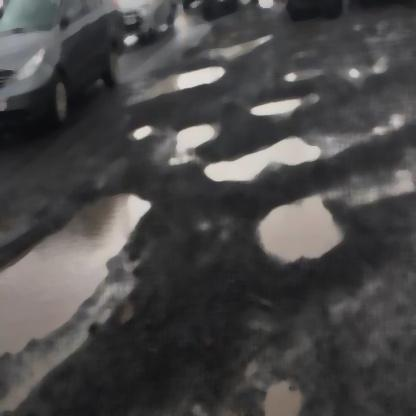Potholes: (1, 192, 149, 346), (260, 199, 339, 265), (138, 46, 224, 97), (250, 92, 320, 132), (158, 130, 222, 170)
